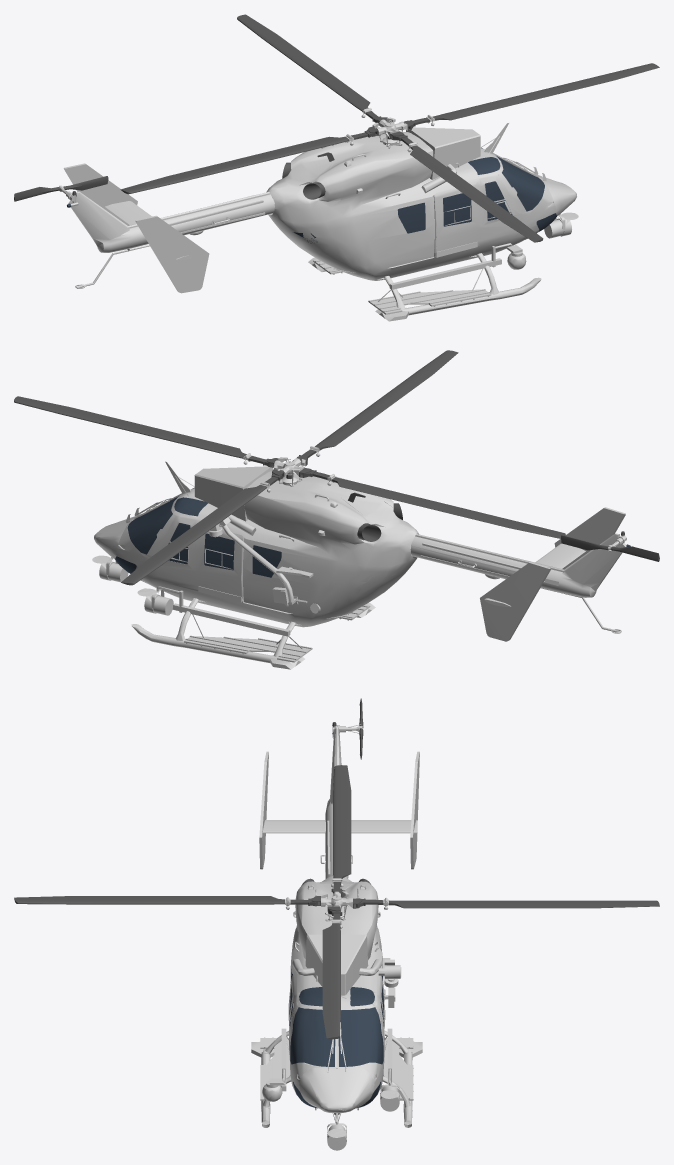
3 views of the same model, one above another, from view 1: azimuth 30°, elevation 25°; view 2: azimuth 150°, elevation 25°; view 3: azimuth 270°, elevation 25° (orthographic). The views are drawn at different scales.
Parts seen in each view (by area): view 1: body, spin (×2), glass, trim; view 2: body, spin (×2), glass, trim; view 3: body, spin, glass.
Boxes of the visible parts, x1,y1,x2,y2 form: body: (59,108,578,321); spin (×2): (14,14,659,242); glass: (67,147,556,243); trim: (72,152,527,239); body: (92,446,626,669); spin (×2): (14,350,659,585); glass: (115,487,630,577); trim: (141,492,624,582); body: (251,724,422,1150); spin: (14,765,659,1039); glass: (289,733,383,1108).
Size of the model in its own units: 2.2 by 0.6044 by 1.85.
